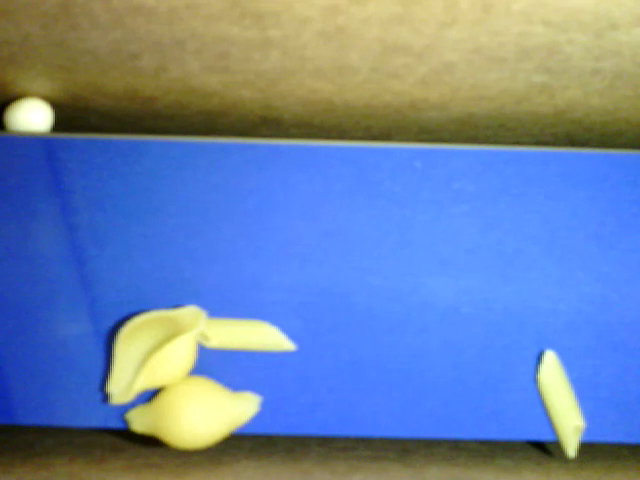penne: (533, 349, 586, 458), (191, 317, 298, 350)
shell: (102, 304, 207, 406), (125, 376, 262, 450)
